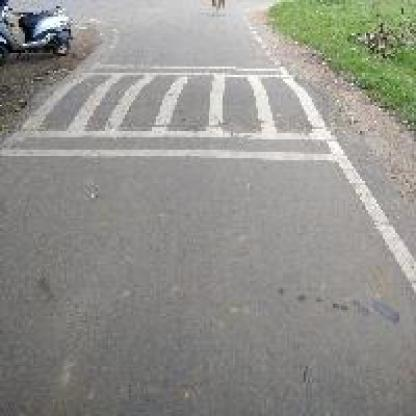Speed Bump: (24, 66, 319, 161)
